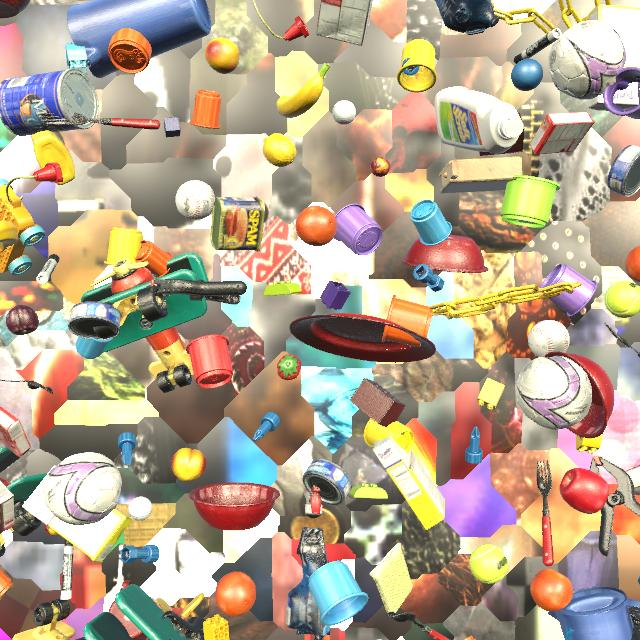ycb_002_master_chef_can: (0, 68, 99, 136), (375, 639, 385, 640)
ycb_004_sugar_box: (22, 465, 132, 563), (372, 436, 445, 530), (588, 4, 640, 111)
ycb_006_mustard_bottle: (30, 131, 75, 185)
ycb_007_tuna_fish_can: (303, 459, 352, 505), (68, 301, 121, 340), (607, 145, 640, 197)
ycb_008_pudding_box: (316, 0, 373, 46), (0, 480, 15, 534), (626, 465, 640, 496)
ycb_009_gelatin_box: (529, 112, 595, 155), (0, 406, 31, 457)
ycb_010_potted_meat_can: (210, 196, 265, 252)
ycb_011_banana: (277, 63, 330, 118), (0, 221, 18, 251)
ycb_012_strawberry: (277, 354, 301, 380)
ycb_013_apple: (559, 468, 609, 514)
ycb_014_lemon: (263, 133, 297, 167)
ycb_015_peach: (205, 38, 240, 74), (171, 448, 207, 482)
ycb_017_orange: (530, 568, 573, 612), (215, 571, 256, 617), (295, 205, 337, 246), (625, 246, 640, 282)
ycb_018_plum: (6, 305, 39, 335)
